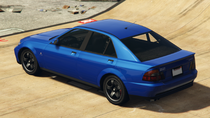car: (18, 19, 198, 107)
